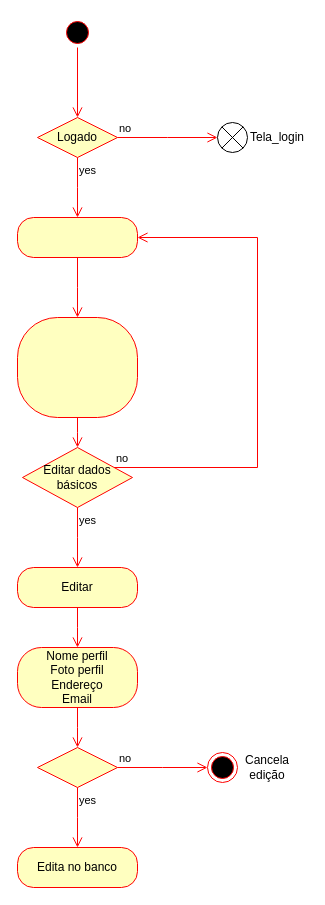
This 325x905 diagram has some shape labels left out. The centre of each missing label's shape, as x and y in pixels:
"Informações válidas" goes at [77,767].
"Mostra dados do perfil" goes at [77,237].
"Nome. Quantidade animais cadastrados. Foto de perfil. Endereço. Email." goes at [77,367].
